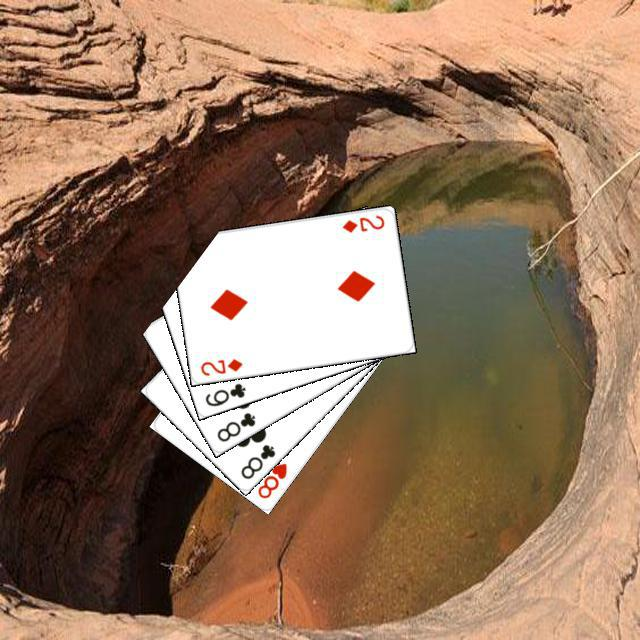2d: (196, 353, 244, 377), (338, 210, 386, 234)
6c: (200, 378, 247, 408)
8c: (236, 439, 277, 481), (212, 407, 257, 443)
8h: (252, 458, 289, 500)
